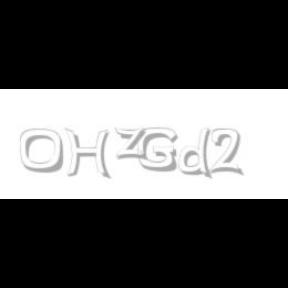2: (208, 128, 242, 176)
G: (137, 128, 177, 172)
H: (65, 128, 111, 180)
O: (20, 128, 64, 174)
d: (179, 128, 216, 180)
z: (114, 128, 150, 160)
